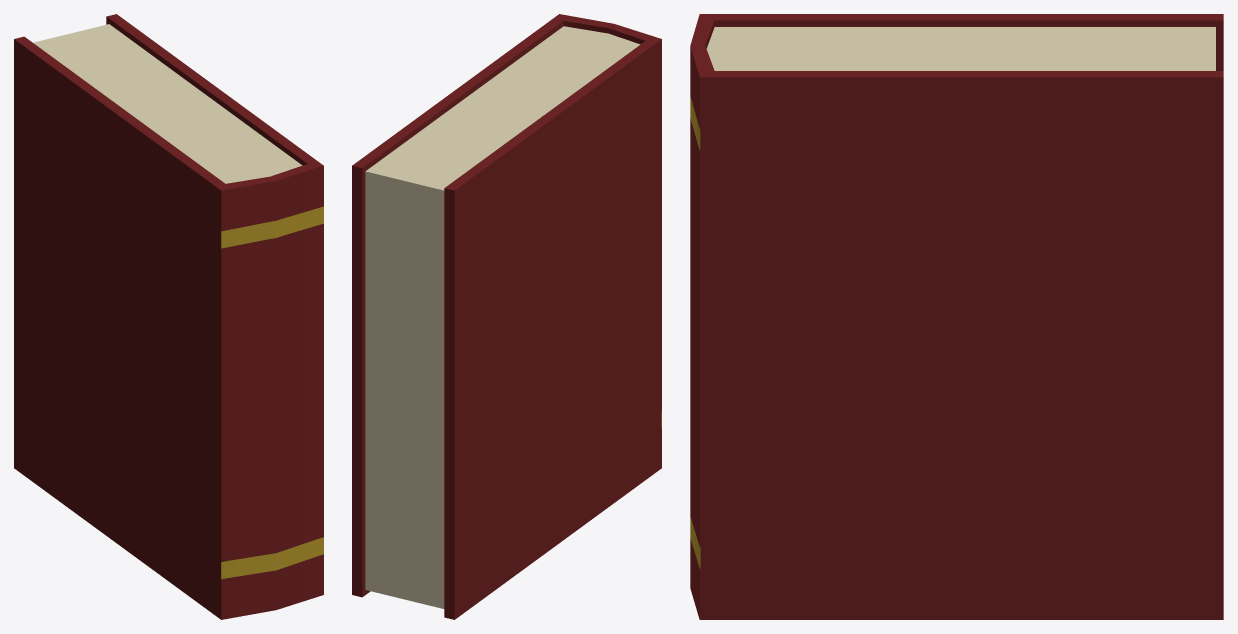
Rendered from book2.fbx.
3 views of the same model, side by side, from view 1: azimuth 30°, elevation 25°; view 2: azimuth 150°, elevation 25°; view 3: azimuth 270°, elevation 25° (orthographic). The views are drawn at different scales.
Parts seen in each view (by area): view 1: Book2; view 2: Book2; view 3: Book2.
Boxes of the visible parts, box(x1,y1,x2,y2) form: Book2: box(14, 14, 323, 619); Book2: box(352, 14, 661, 619); Book2: box(690, 14, 1223, 619).
Size of the model in its own units: 50 by 200 by 178.
1 material, 1 textured.
